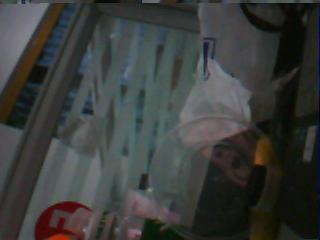oball: (44, 231, 73, 240)
